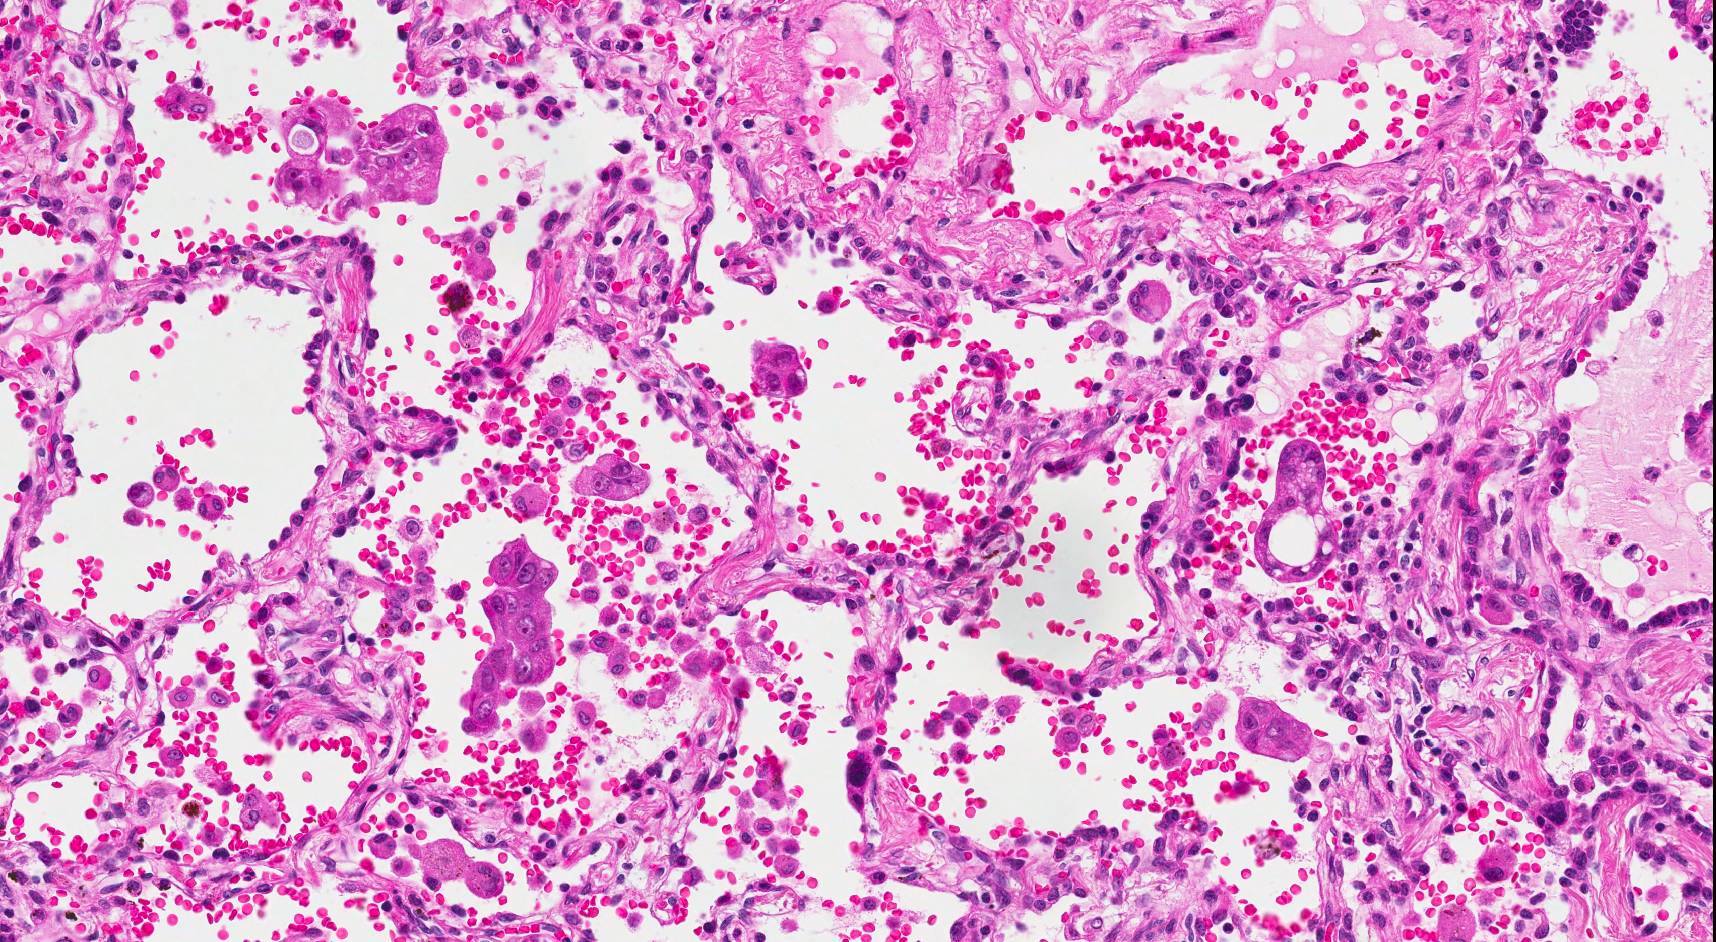stas: (271, 95, 449, 220), (460, 536, 554, 736), (1255, 438, 1341, 585), (1234, 694, 1314, 762), (573, 452, 651, 501), (750, 341, 807, 396)
